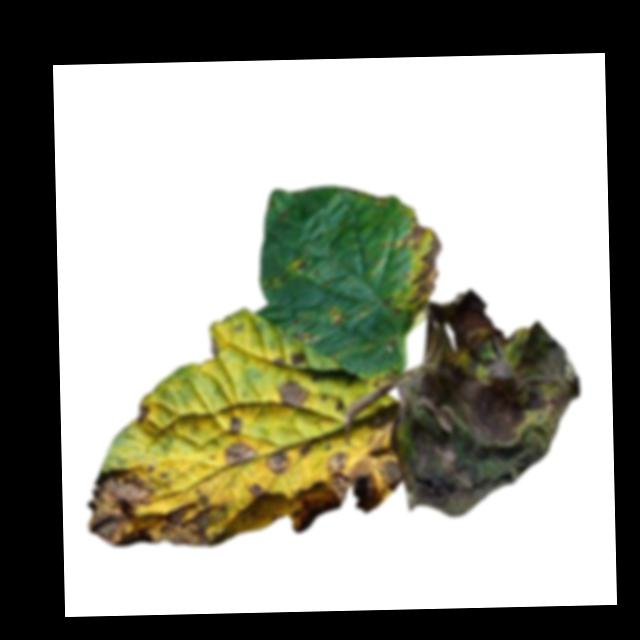Early_blight: (383, 288, 582, 519), (80, 462, 234, 550), (292, 442, 403, 534), (398, 215, 443, 319), (221, 438, 258, 466), (277, 379, 308, 410), (265, 449, 290, 472), (134, 404, 150, 425), (228, 414, 244, 434), (287, 351, 309, 365), (248, 481, 264, 498), (293, 257, 310, 270)
